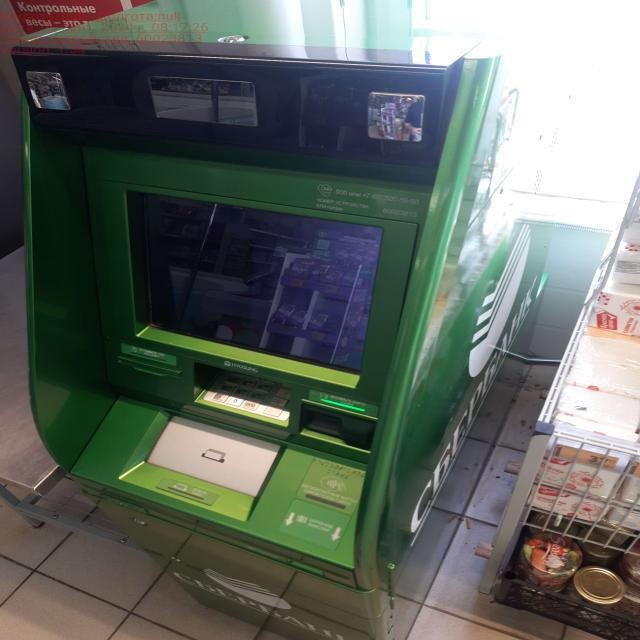bank: (11, 0, 550, 640)
